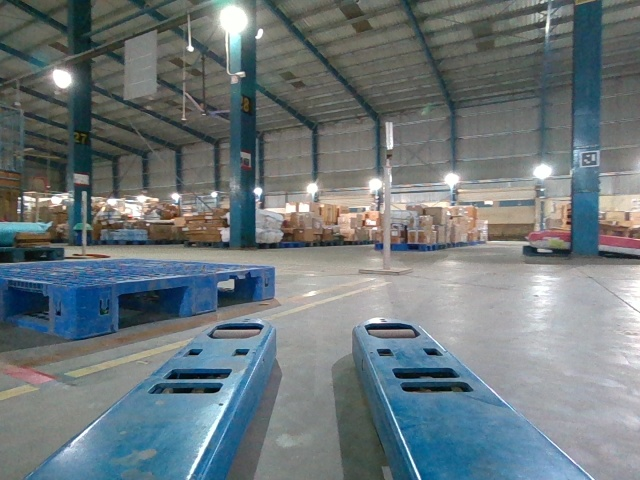block: (47, 281, 120, 340), (186, 273, 220, 313), (255, 267, 280, 301)
front: (75, 265, 275, 338)
hole pallet: (107, 282, 193, 329), (215, 273, 261, 307)
